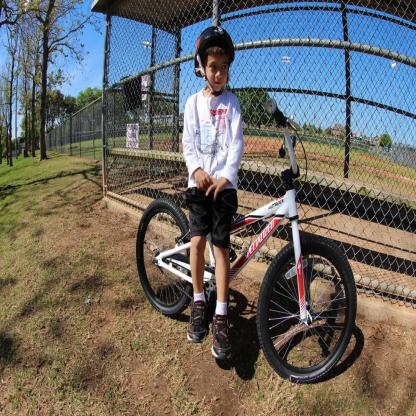Helmet: (198, 23, 236, 87)
